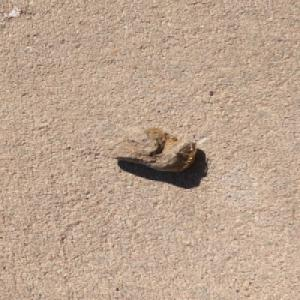Rock: (98, 125, 198, 172)
